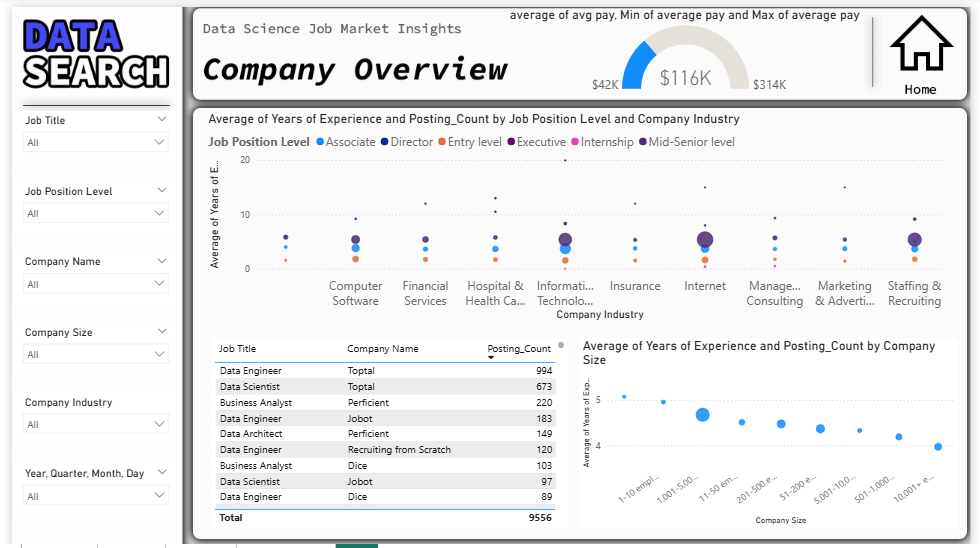

The dashboard page shown, as its layout file describes it:
{"tool":"powerbi","page":{"name":"Company","canvas":[1280,720],"ordinal":3},"visuals":[{"type":"slicer","fields":{"Values":["job_postings.Job Title"]},"box":[4.5,138.7,215,70],"z":0},{"type":"slicer","fields":{"Values":["job_postings.Company Name"]},"box":[4.5,327.4,215,70],"z":1000},{"type":"slicer","fields":{"Values":["job_postings.Job Position Level"]},"box":[4.5,233,215,70],"z":2000},{"type":"slicer","fields":{"Values":["job_postings.Company Size"]},"box":[4.8,421.8,215.3,68.6],"z":3000},{"type":"slicer","fields":{"Values":["job_postings.Company Industry"]},"box":[4.8,514.7,215.3,70.2],"z":4000},{"type":"slicer","fields":{"Values":["job_postings.Job Posting Date.Variation.Date Hierarchy.Year","job_postings.Job Posting Date.Variation.Date Hierarchy.Quarter","job_postings.Job Posting Date.Variation.Date Hierarchy.Month","job_postings.Job Posting Date.Variation.Date Hierarchy.Day"]},"box":[4.8,609.3,215.3,71.8],"z":5000},{"type":"scatterChart","fields":{"X":["job_postings.Company Industry"],"Y":["Avg(job_postings.Years of Experience)"],"Size":["_measure.Posting_Count"],"Series":["job_postings.Job Position Level"]},"box":[266.2,138,997.5,284.3],"z":6000},{"type":"gauge","fields":{"Y":["_measure.average of avg pay"],"MinValue":["Min(job_postings.average pay)"],"MaxValue":["Max(job_postings.average pay)1"]},"box":[660.3,0,488.1,119.6],"z":7000},{"type":"image","box":[1165.1,0,98.6,97],"z":8000},{"type":"tableEx","fields":{"Values":["job_postings.Job Title","job_postings.Company Name","_measure.Posting_Count"]},"box":[266.2,442,476.6,254.7],"z":9000},{"type":"scatterChart","fields":{"X":["job_postings.Company Size"],"Y":["Avg(job_postings.Years of Experience)"],"Size":["_measure.Posting_Count"]},"box":[757.6,442,506.1,254.7],"z":10000}]}

Visuals, with their boxes in screenshot pixels (x1, y1, x2, y2), scaled from the page's 1280x720 canvas onto the 980x548 screenshot:
slicer - job_postings.Job Title: bbox(3, 106, 168, 159)
slicer - job_postings.Company Name: bbox(3, 249, 168, 302)
slicer - job_postings.Job Position Level: bbox(3, 177, 168, 231)
slicer - job_postings.Company Size: bbox(4, 321, 169, 373)
slicer - job_postings.Company Industry: bbox(4, 392, 169, 445)
slicer - job_postings.Job Posting Date.Variation.Date Hierarchy.Year x job_postings.Job Posting Date.Variation.Date Hierarchy.Quarter: bbox(4, 464, 169, 518)
scatterChart - job_postings.Company Industry x Avg(job_postings.Years of Experience): bbox(204, 105, 968, 321)
gauge - _measure.average of avg pay x Min(job_postings.average pay): bbox(506, 0, 879, 91)
image: bbox(892, 0, 968, 74)
tableEx - job_postings.Job Title x job_postings.Company Name: bbox(204, 336, 569, 530)
scatterChart - job_postings.Company Size x Avg(job_postings.Years of Experience): bbox(580, 336, 968, 530)
